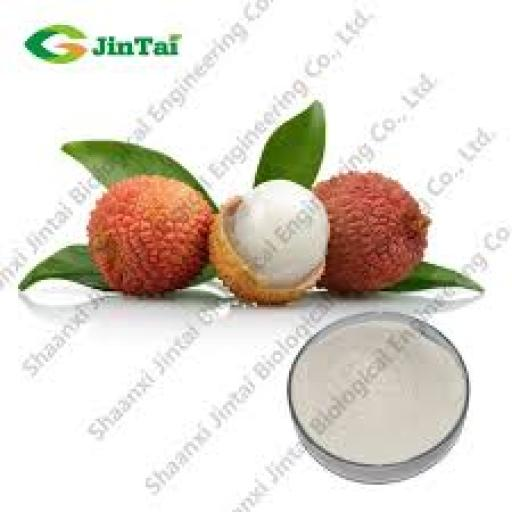lychee: (210, 180, 329, 304), (89, 176, 211, 295), (315, 173, 430, 291)
